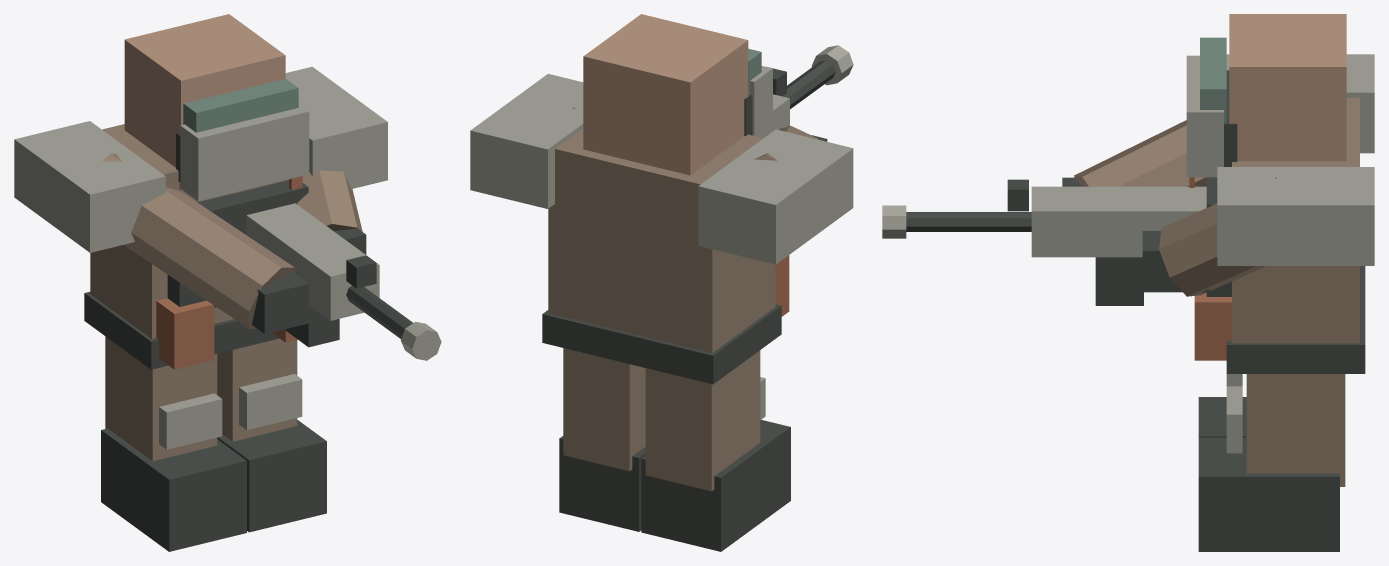
Rendered from raider_brute.glb.
3 views of the same model, side by side, from view 1: azimuth 30°, elevation 25°; view 2: azimuth 150°, elevation 25°; view 3: azimuth 270°, elevation 25° (orthographic). The views are drawn at different scales.
Parts seen in each view (by area): view 1: head.002, shoulder plate left, heavy boot.004, left sleeve.002, reinforced mask, heavy boot.005, cargo trousers.004, shoulder plate right, rifle receiver.002, layered torso.002, cargo trousers.005, belt.003 (+11 smaller); view 2: layered torso.002, head.002, shoulder plate left, cargo trousers.004, heavy boot.004, shoulder plate right, cargo trousers.005, belt.003, heavy boot.005, reinforced mask, forward barrel.002, muzzle brake.002 (+2 smaller); view 3: head.002, shoulder plate right, heavy boot.005, layered torso.002, rifle receiver.002, cargo trousers.005, belt.003, right sleeve.002, left sleeve.002, reinforced mask, forward barrel.002, ammo pouch.005 (+10 smaller).
Boxes of the visible parts, x1,y1,x2,y2 form: head.002: (124,14,285,189); shoulder plate left: (14,121,165,252); heavy boot.004: (101,428,246,551); left sleeve.002: (102,153,294,328); reinforced mask: (180,104,309,201); heavy boot.005: (217,420,326,532); cargo trousers.004: (105,336,217,460); shoulder plate right: (285,66,387,188); rifle receiver.002: (246,203,379,320); layered torso.002: (90,124,288,338); cargo trousers.005: (217,338,297,441); belt.003: (84,291,279,369); layered torso.002: (548,128,775,352); head.002: (583,14,748,175); shoulder plate left: (698,129,853,264); cargo trousers.004: (645,350,760,491); heavy boot.004: (641,419,790,551); shoulder plate right: (470,74,583,208); cargo trousers.005: (563,348,645,471); belt.003: (542,304,781,384); heavy boot.005: (559,436,645,531); reinforced mask: (750,66,772,137); forward barrel.002: (783,60,835,109); muzzle brake.002: (812,45,853,85); head.002: (1229,14,1346,161); shoulder plate right: (1217,167,1374,265); heavy boot.005: (1198,437,1339,551); layered torso.002: (1232,97,1359,343); rifle receiver.002: (1031,186,1206,257); cargo trousers.005: (1246,374,1345,486); belt.003: (1226,266,1365,373); right sleeve.002: (1159,177,1276,296); left sleeve.002: (1074,120,1206,186); reinforced mask: (1186,55,1223,177); forward barrel.002: (906,212,1031,231); ammo pouch.005: (1194,292,1231,360).
Size of the model in its own units: 1.34 by 1.95 by 1.84.
